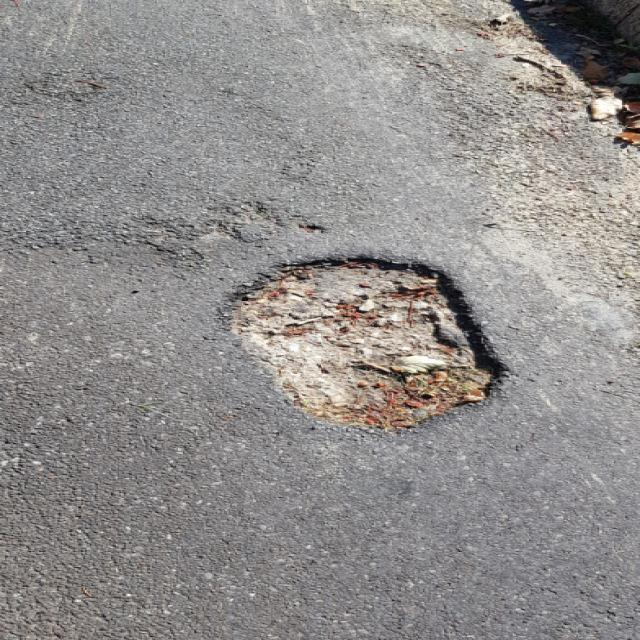pothole: (214, 250, 511, 435)
